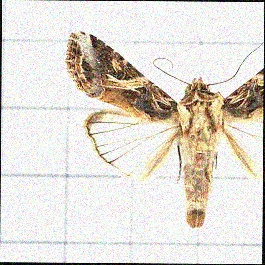Spodoptera litura: (63, 30, 264, 228)
